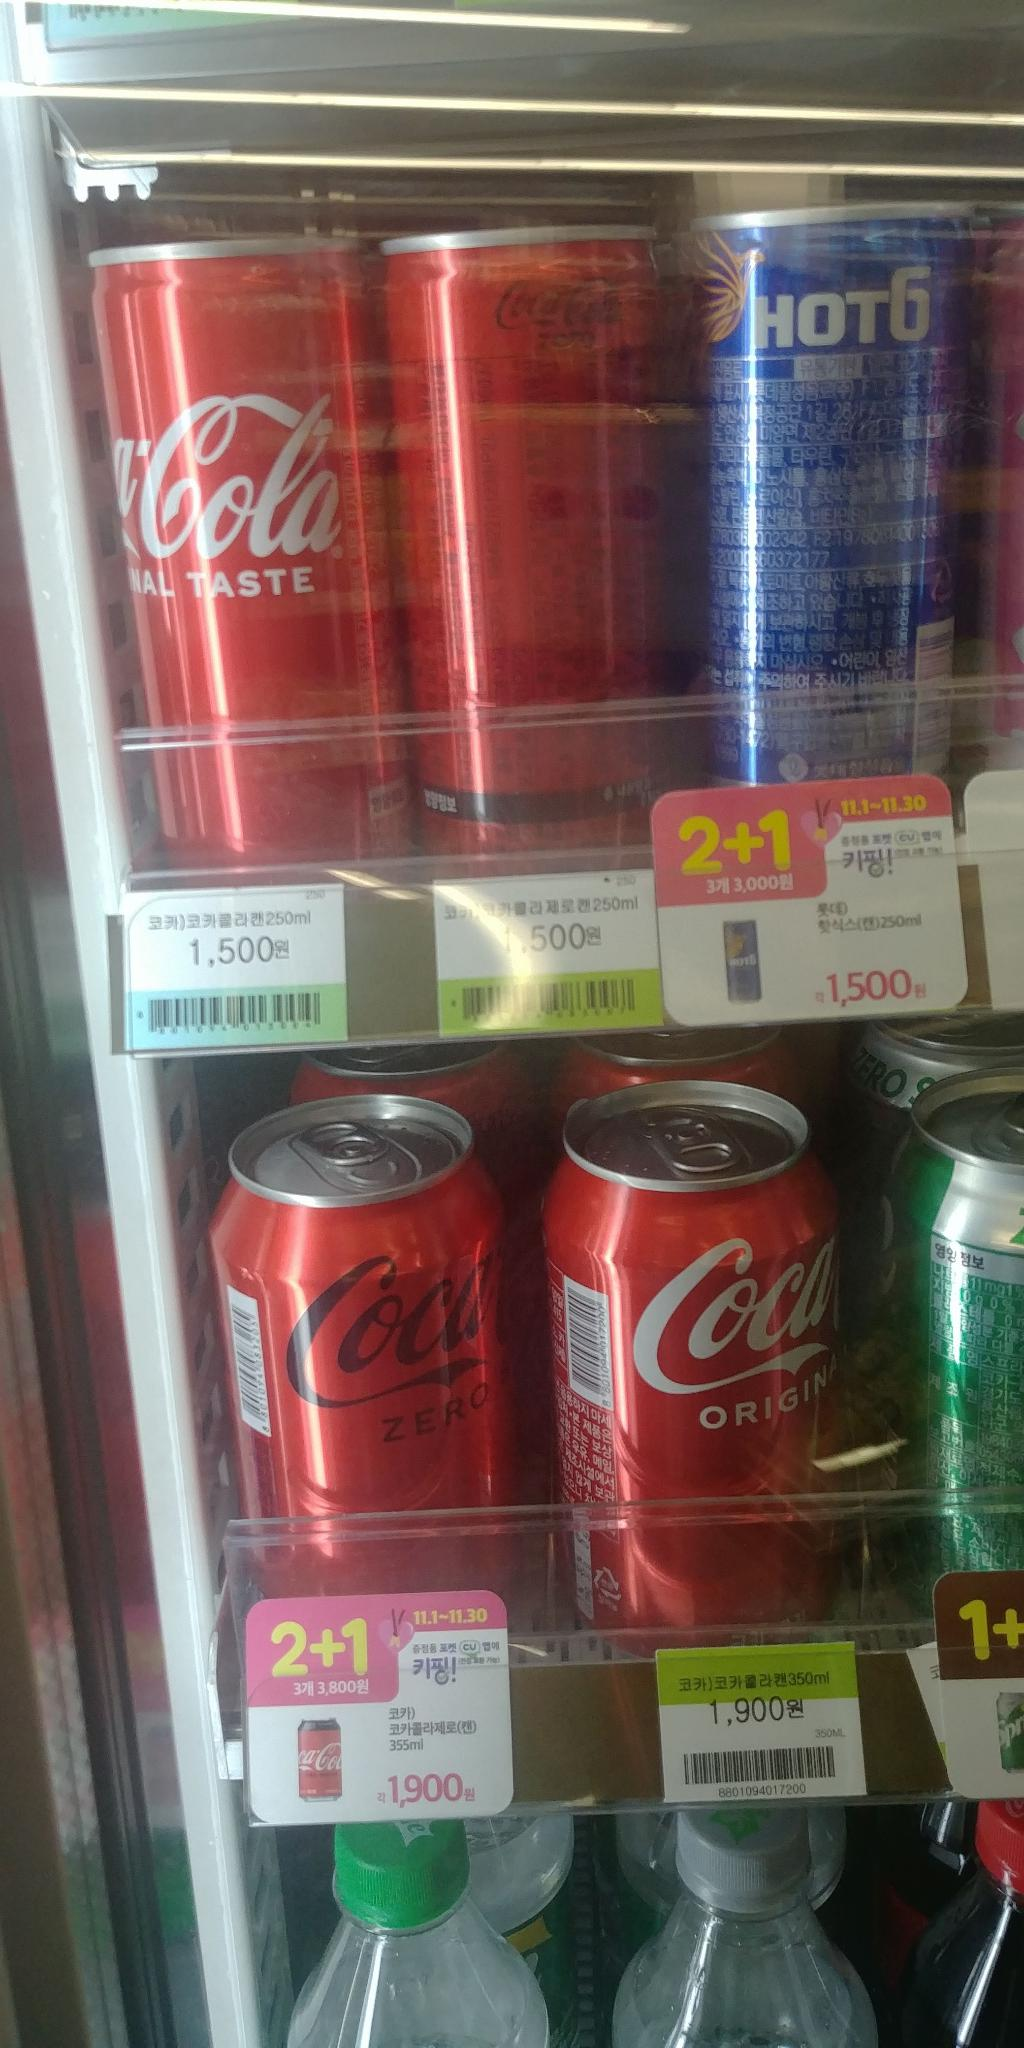cocacola: (526, 1081, 872, 1661)
hotsix_org: (660, 179, 986, 852)
